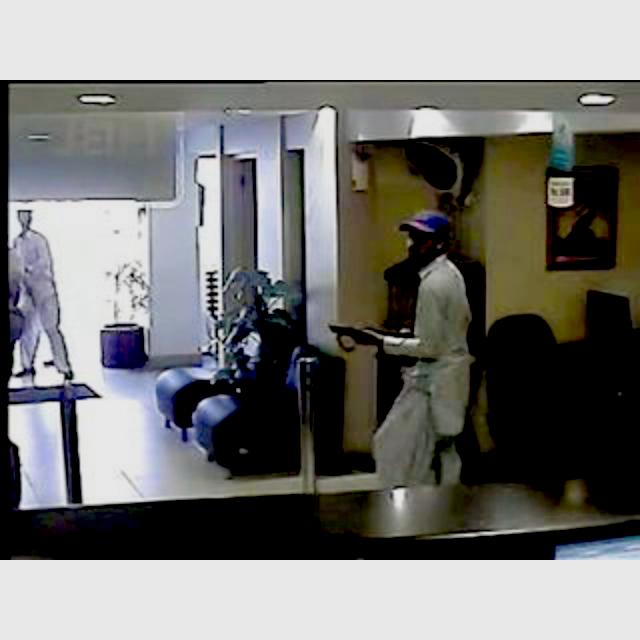criminal: (328, 210, 474, 484), (6, 207, 74, 379)
weapon: (327, 321, 389, 352), (19, 278, 39, 310)
